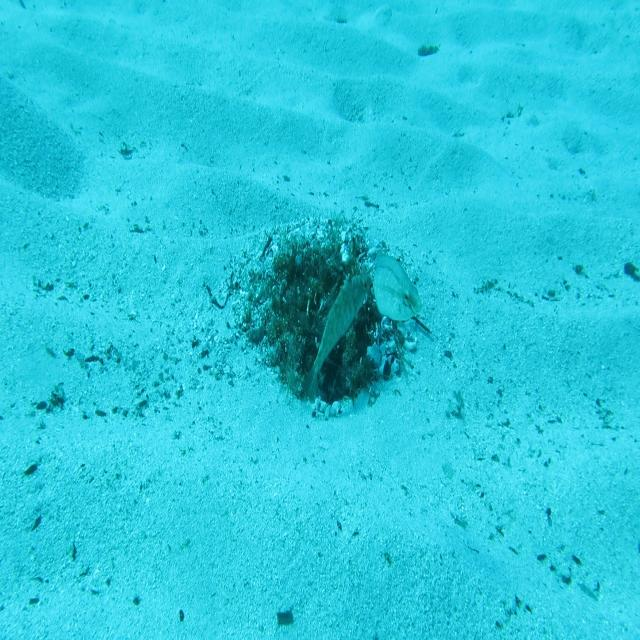FAN: (300, 271, 374, 405)
core_nest: (295, 257, 343, 288)
female: (372, 251, 425, 325)
nest: (222, 207, 420, 438)
vegetation: (416, 42, 440, 62), (624, 259, 640, 287), (276, 608, 295, 628)
